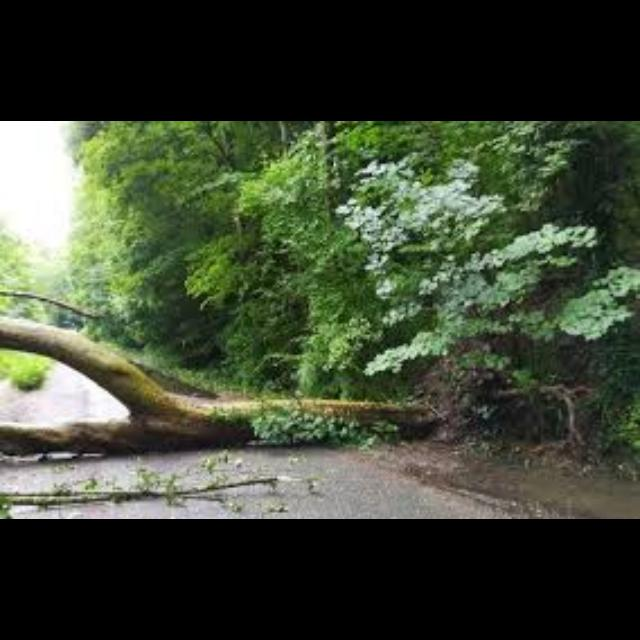Fallen Tree: (148, 349, 514, 448)
